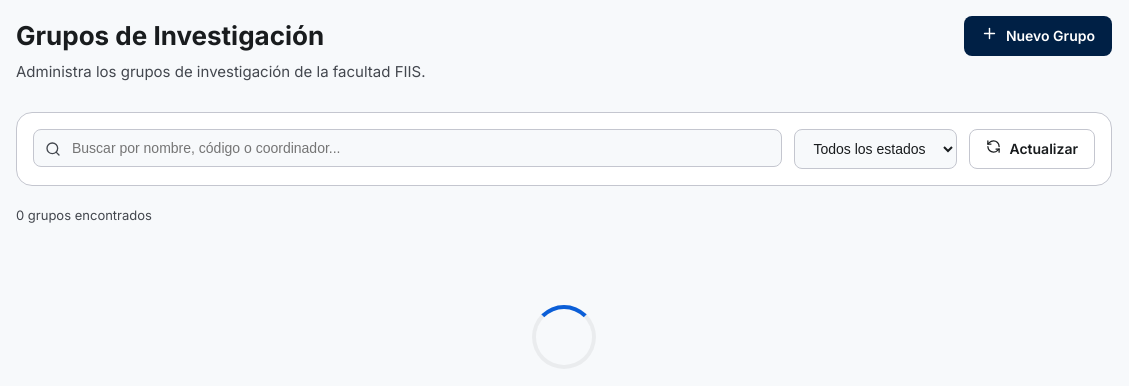
ResearchGroups page › filters groups by search term
In the field with placeholder "Buscar por nombre, código o coordinador...": (408, 148) x1=33 y1=128 x2=782 y2=166, type "HARD"
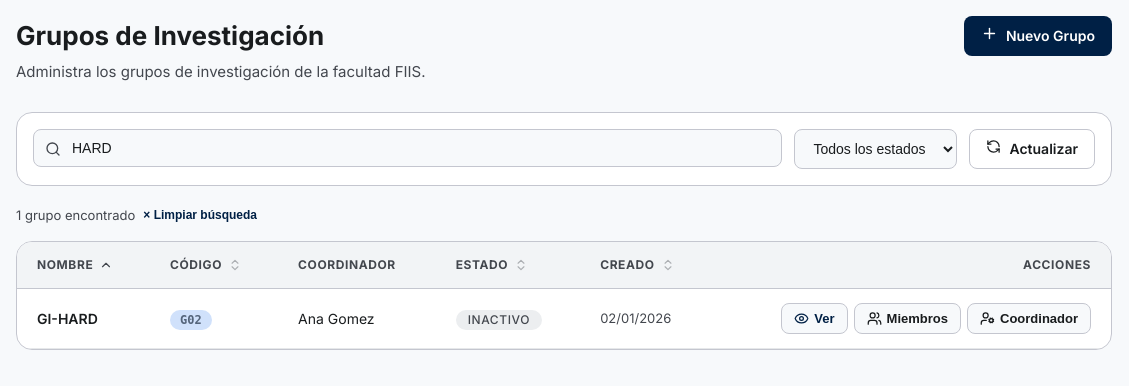
Now the text "GI-HARD" is shown, box x1=17 y1=288 x2=150 y2=348
